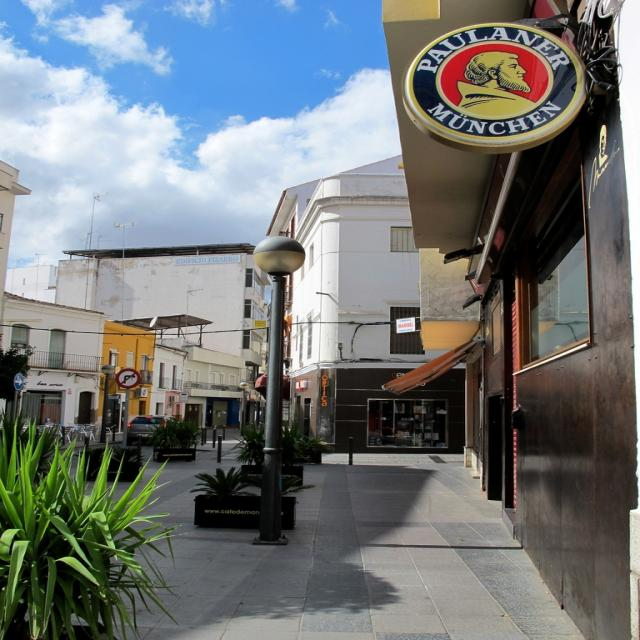paulaner: (407, 21, 584, 140)
